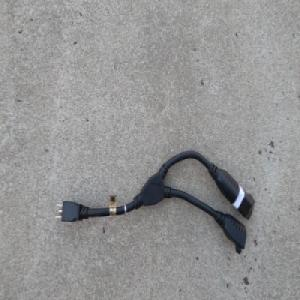Wire: (53, 149, 256, 255)
